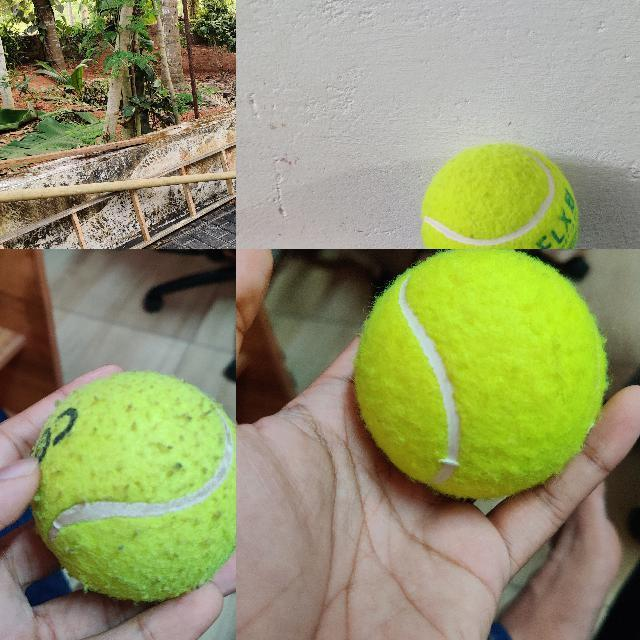tennis-ball: (354, 249, 606, 498), (28, 370, 235, 602), (420, 143, 580, 248)
